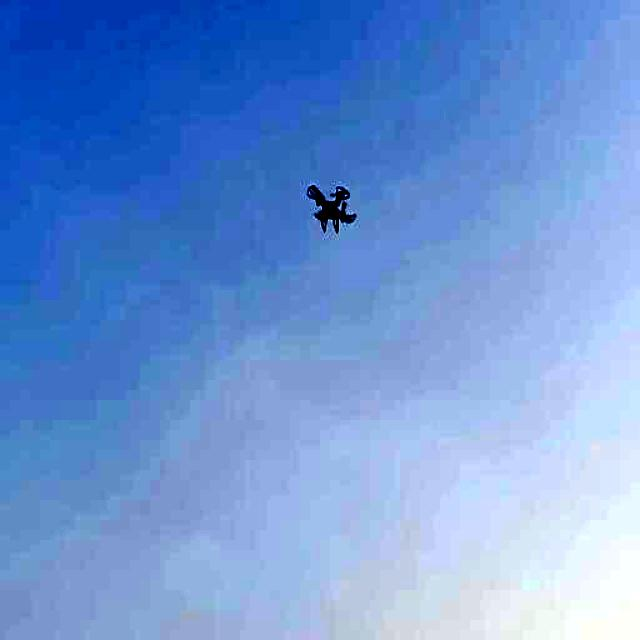bird: (296, 151, 374, 244)
